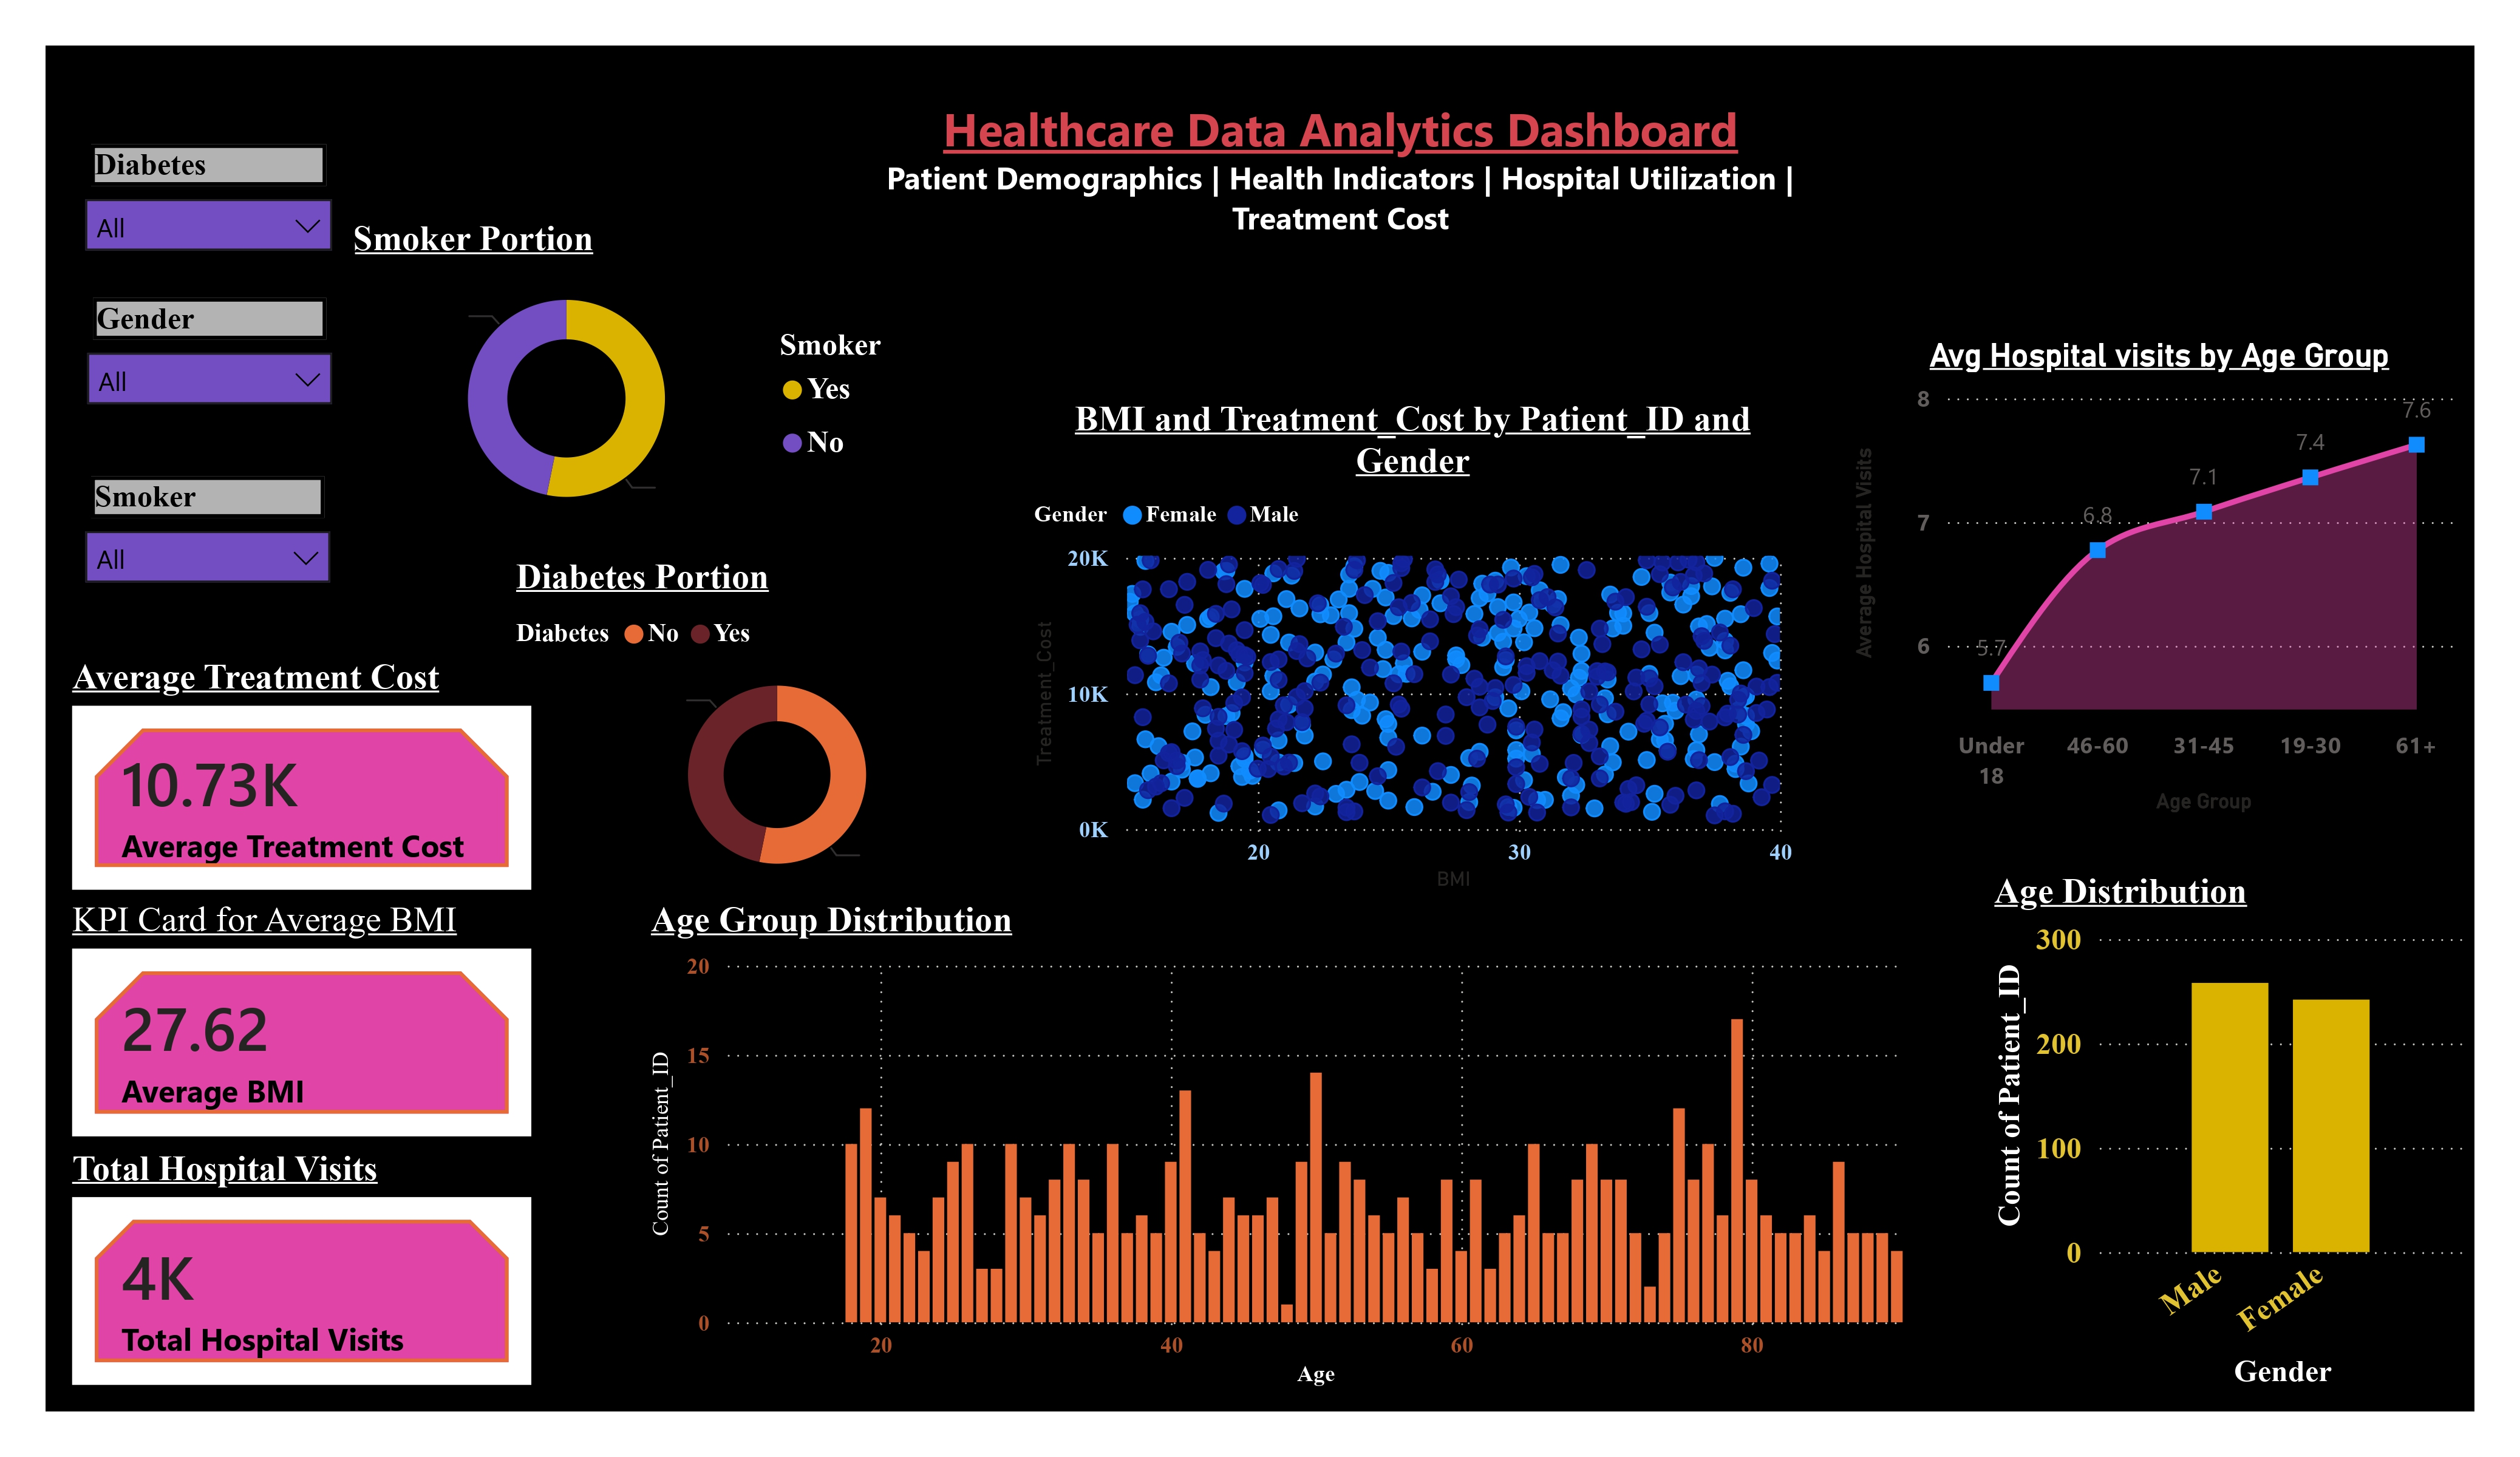

This screenshot's page, from the dashboard's own definition file:
{"tool":"powerbi","page":{"name":"Page 1","canvas":[1280,720],"ordinal":0},"visuals":[{"type":"clusteredColumnChart","title":"Age Group Distribution","fields":{"Y":["CountNonNull(healthcare_data csv.Patient_ID)"],"Category":["healthcare_data csv.Age"]},"box":[313.7,450.3,673.7,261.6],"z":0},{"type":"clusteredColumnChart","title":"Age Distribution","fields":{"Y":["CountNonNull(healthcare_data csv.Patient_ID)"],"Category":["healthcare_data csv.Gender"]},"box":[1022.1,435.2,258.1,276.7],"z":1000},{"type":"lineChart","title":"Avg Hospital visits by Age Group","fields":{"Category":["healthcare_data csv.Age Group"],"Y":["healthcare_data csv.Average Hospital Visits"]},"box":[948,152.8,332.2,255.8],"z":2000},{"type":"donutChart","title":"Smoker Portion","fields":{"Category":["healthcare_data csv.Smoker"],"Y":["CountNonNull(healthcare_data csv.Patient_ID)"]},"box":[157.4,91.4,311.4,169],"z":3000},{"type":"donutChart","title":"Diabetes Portion","fields":{"Y":["CountNonNull(healthcare_data csv.Patient_ID)"],"Category":["healthcare_data csv.Diabetes"]},"box":[243.1,268.6,284.8,181.7],"z":4000},{"type":"cardVisual","title":"Average Treatment Cost","fields":{"Data":["healthcare_data csv.Average Treatment Cost"]},"box":[9.3,321.8,252.3,128.5],"z":5000},{"type":"cardVisual","title":"KPI Card for Average  BMI ","fields":{"Data":["healthcare_data csv.Average BMI"]},"box":[9.3,450.3,252.3,130.8],"z":6000},{"type":"cardVisual","title":"Total Hospital Visits","fields":{"Data":["healthcare_data csv.Total Hospital Visits"]},"box":[9.3,581.1,252.3,130.8],"z":7000},{"type":"slicer","fields":{"Values":["healthcare_data csv.Diabetes"]},"box":[9.3,45.1,154,70.6],"z":8000},{"type":"slicer","fields":{"Values":["healthcare_data csv.Gender"]},"box":[10.4,126.2,152.8,76.4],"z":9000},{"type":"slicer","fields":{"Values":["healthcare_data csv.Smoker"]},"box":[9.3,219.9,152.8,81],"z":10000},{"type":"scatterChart","fields":{"X":["Sum(healthcare_data csv.BMI)"],"Series":["healthcare_data csv.Gender"],"Y":["Sum(healthcare_data csv.Treatment_Cost)"],"Category":["healthcare_data csv.Patient_ID"]},"box":[494.4,140,420,282.2],"z":11000},{"type":"textbox","box":[427.8,17.8,520,91.1],"z":12000}]}

Visuals, with their boxes on the page's 1280x720 design canvas (x1, y1, x2, y2). These are canvas units, not pixel positions in the 2520x1457 screenshot, which may show the page scaled, cropped or inside an application window:
"Age Group Distribution" clusteredColumnChart: 314,450,987,712
"Age Distribution" clusteredColumnChart: 1022,435,1280,712
"Avg Hospital visits by Age Group" lineChart: 948,153,1280,409
"Smoker Portion" donutChart: 157,91,469,260
"Diabetes Portion" donutChart: 243,269,528,450
"Average Treatment Cost" cardVisual: 9,322,262,450
"KPI Card for Average  BMI " cardVisual: 9,450,262,581
"Total Hospital Visits" cardVisual: 9,581,262,712
slicer - healthcare_data csv.Diabetes: 9,45,163,116
slicer - healthcare_data csv.Gender: 10,126,163,203
slicer - healthcare_data csv.Smoker: 9,220,162,301
scatterChart - Sum(healthcare_data csv.BMI) x healthcare_data csv.Gender: 494,140,914,422
textbox: 428,18,948,109
